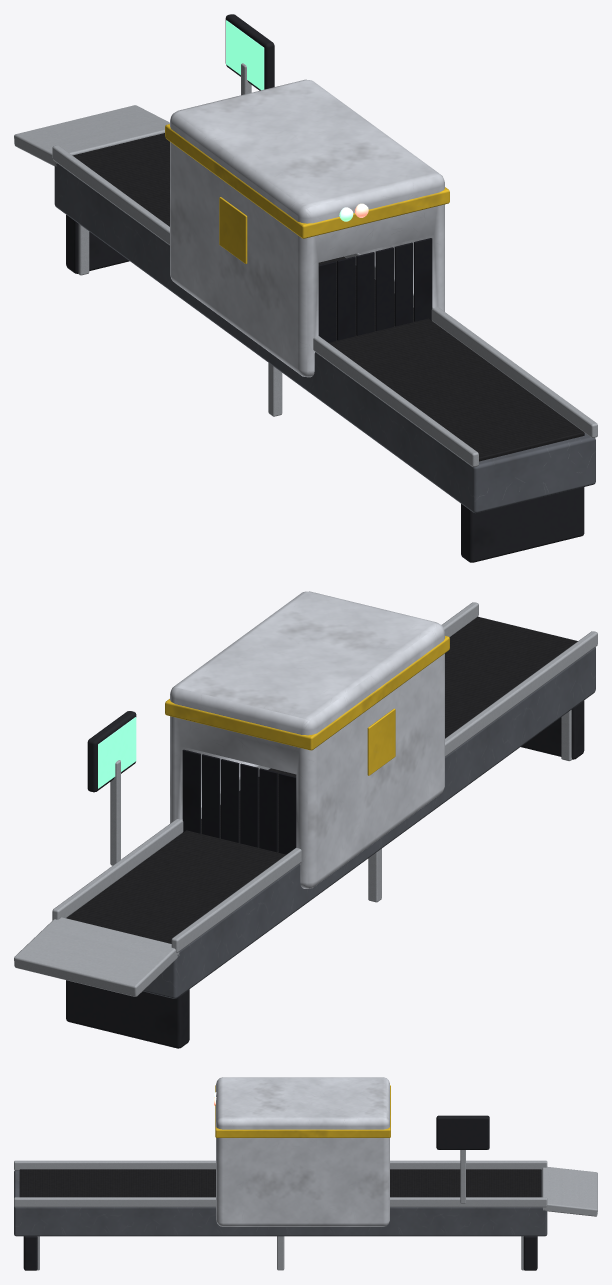
Rendered from XRayMachine.glb.
3 views of the same model, one above another, from view 1: azimuth 30°, elevation 25°; view 2: azimuth 150°, elevation 25°; view 3: azimuth 270°, elevation 25° (orthographic). The views are drawn at different scales.
Parts seen in each view (by area): view 1: XRayMachine_MetalWhite, XRayMachine_Belt, XRayMachine_MetalGrey, XRayMachine_Steel, XRayMachine_PlasticDark_9999a5, XRayMachine_PlasticDark, XRayMachine_MetalYellow, XRayMachine_PlasticDark_glow; view 2: XRayMachine_MetalWhite, XRayMachine_Belt, XRayMachine_Steel, XRayMachine_MetalGrey, XRayMachine_PlasticDark_9999a5, XRayMachine_PlasticDark, XRayMachine_MetalYellow, XRayMachine_PlasticDark_glow; view 3: XRayMachine_MetalWhite, XRayMachine_MetalGrey, XRayMachine_Steel, XRayMachine_Belt, XRayMachine_PlasticDark, XRayMachine_MetalYellow.
Boxes of the visible parts, <box> form: XRayMachine_MetalWhite: <box>170,79,444,377</box>; XRayMachine_Belt: <box>72,133,584,461</box>; XRayMachine_MetalGrey: <box>54,163,595,512</box>; XRayMachine_Steel: <box>14,63,597,466</box>; XRayMachine_PlasticDark_9999a5: <box>318,238,432,342</box>; XRayMachine_PlasticDark: <box>66,14,584,562</box>; XRayMachine_MetalYellow: <box>165,124,449,263</box>; XRayMachine_PlasticDark_glow: <box>226,20,264,90</box>; XRayMachine_MetalWhite: <box>170,591,444,888</box>; XRayMachine_Belt: <box>66,617,577,943</box>; XRayMachine_Steel: <box>14,602,597,996</box>; XRayMachine_MetalGrey: <box>71,616,595,998</box>; XRayMachine_PlasticDark_9999a5: <box>182,749,296,854</box>; XRayMachine_PlasticDark: <box>66,700,584,1048</box>; XRayMachine_MetalYellow: <box>165,636,449,775</box>; XRayMachine_PlasticDark_glow: <box>98,717,136,788</box>; XRayMachine_MetalWhite: <box>216,1077,389,1226</box>; XRayMachine_MetalGrey: <box>14,1170,547,1236</box>; XRayMachine_Steel: <box>14,1150,597,1270</box>; XRayMachine_Belt: <box>19,1169,541,1197</box>; XRayMachine_PlasticDark: <box>23,1115,537,1270</box>; XRayMachine_MetalYellow: <box>215,1085,390,1137</box>.
Bounding box in the file's own units: 3.88 × 6.25 × 20.8.
Materials: 10 (10 with a texture image).
